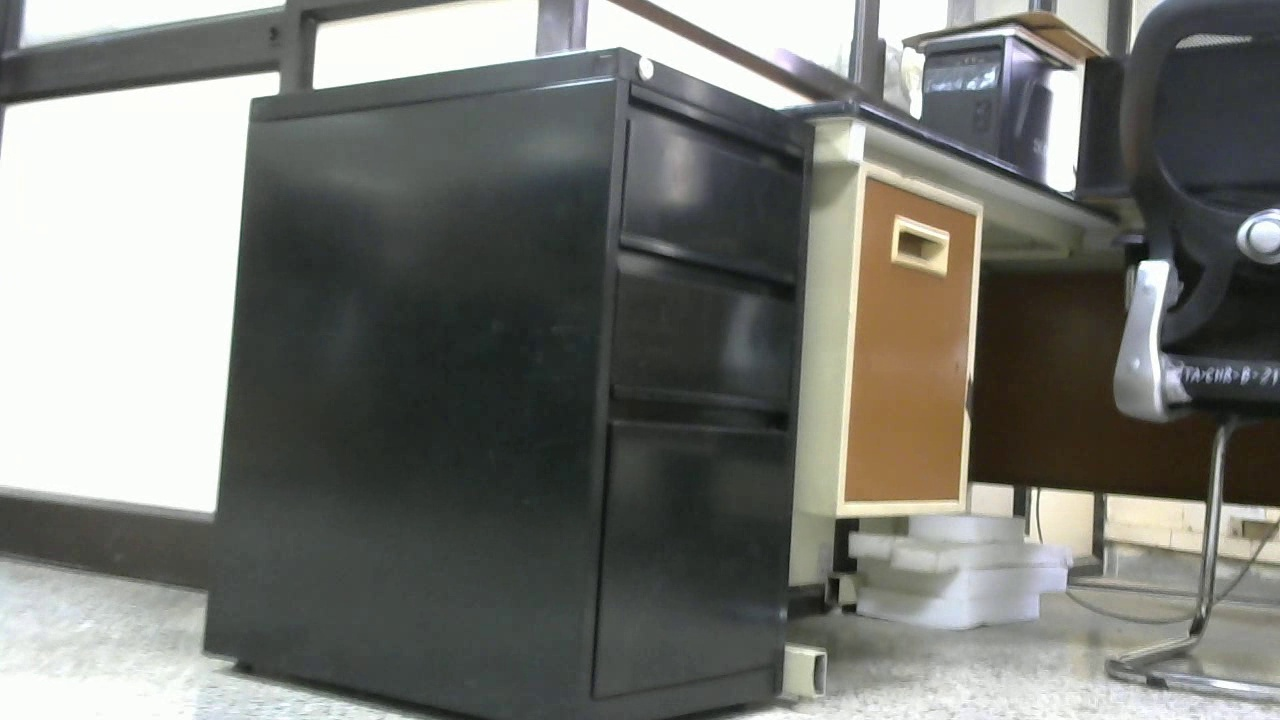chair: (1097, 2, 1280, 695)
